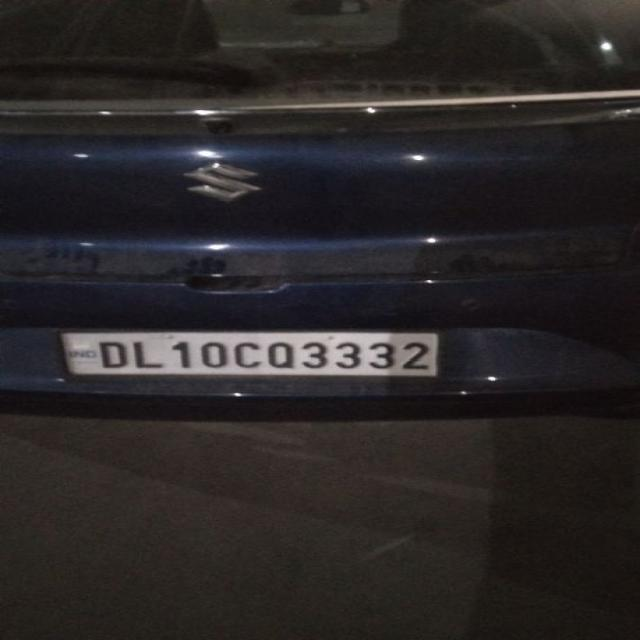license_plate: (56, 327, 442, 379)
